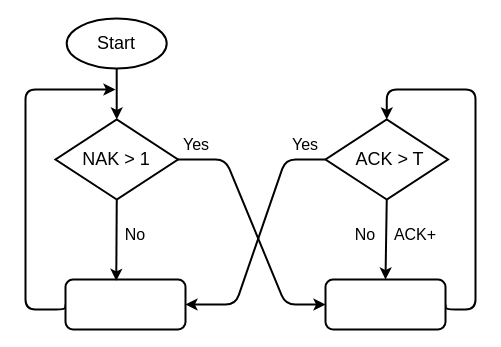
This 501x347 diagram has some shape labels left out. Each missing label, with the centre of its shape:
"ARQ" belongs at pixel 125 304.
"HARQ-1" belongs at pixel 385 304.
